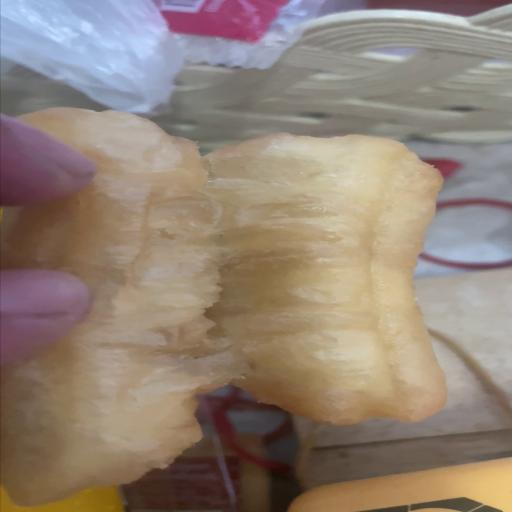street_golden_defect: (0, 108, 447, 447)
street_golden_good: (289, 458, 512, 512)
